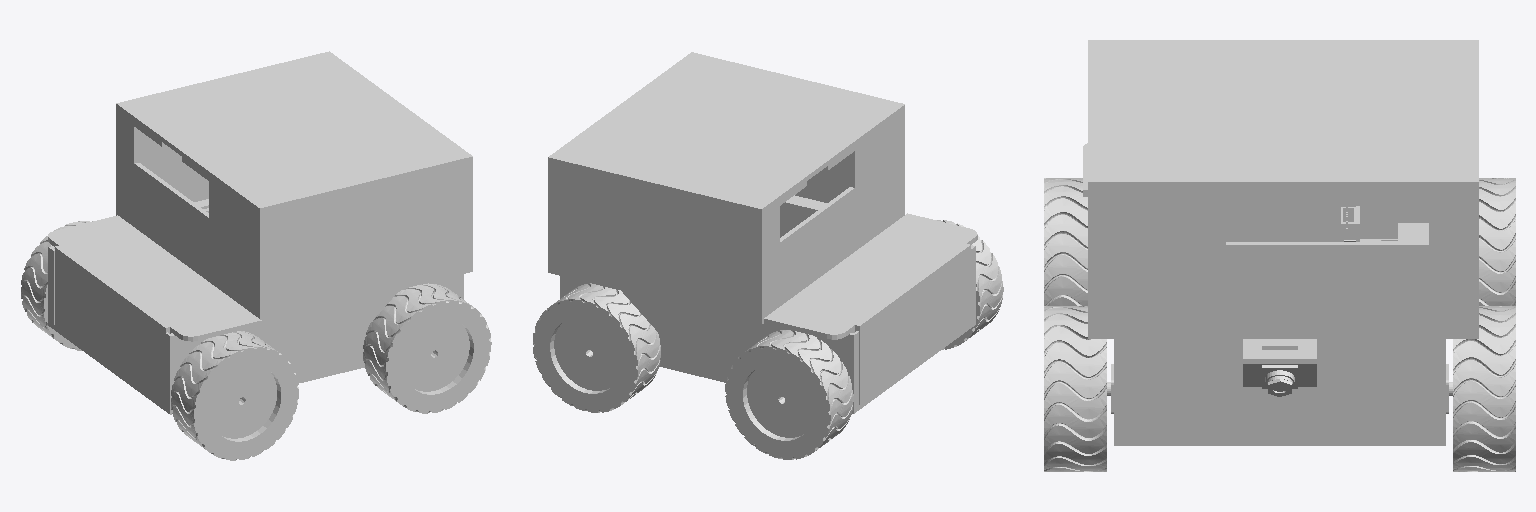
URDF robot description (linefollowingrobot):
<?xml version="1.0" encoding="utf-8"?>
<!-- This URDF was automatically created by SolidWorks to URDF Exporter! Originally created by Stephen Brawner (brawner@gmail.com)
     Commit Version: 1.6.0-4-g7f85cfe  Build Version: 1.6.7995.38578
     For more information, please see http://wiki.ros.org/sw_urdf_exporter -->
<robot
  name="linefollowingrobot">
  <link
    name="base_link">
    <inertial>
      <origin
        xyz="0.0055775 0.00018288 0.030791"
        rpy="0 0 0" />
      <mass
        value="0.12858" />
      <inertia
        ixx="0.0001856"
        ixy="1.0483E-07"
        ixz="-8.2161E-06"
        iyy="0.0001532"
        iyz="4.7258E-07"
        izz="0.00027722" />
    </inertial>
    <visual>
      <origin
        xyz="0 0 0"
        rpy="0 0 0" />
      <geometry>
        <mesh
          filename="package://linefollowingrobot/meshes/base_link.STL" />
      </geometry>
      <material
        name="">
        <color
          rgba="0.89412 0.89412 0.89412 1" />
      </material>
    </visual>
    <collision>
      <origin
        xyz="0 0 0"
        rpy="0 0 0" />
      <geometry>
        <mesh
          filename="package://linefollowingrobot/meshes/base_link.STL" />
      </geometry>
    </collision>
  </link>
  <link
    name="camera_font">
    <inertial>
      <origin
        xyz="0.0011954 4.0301E-13 -0.00071418"
        rpy="0 0 0" />
      <mass
        value="0.0002962" />
      <inertia
        ixx="3.2454E-09"
        ixy="6.4136E-24"
        ixz="-5.3673E-10"
        iyy="2.347E-09"
        iyz="4.3067E-24"
        izz="2.6677E-09" />
    </inertial>
    <visual>
      <origin
        xyz="0 0 0"
        rpy="0 0 0" />
      <geometry>
        <mesh
          filename="package://linefollowingrobot/meshes/camera_font.STL" />
      </geometry>
      <material
        name="">
        <color
          rgba="0.89412 0.89412 0.89412 1" />
      </material>
    </visual>
    <collision>
      <origin
        xyz="0 0 0"
        rpy="0 0 0" />
      <geometry>
        <mesh
          filename="package://linefollowingrobot/meshes/camera_font.STL" />
      </geometry>
    </collision>
  </link>
  <joint
    name="camerafont"
    type="fixed">
    <origin
      xyz="0.07269 0 0.023396"
      rpy="0 0 0" />
    <parent
      link="base_link" />
    <child
      link="camera_font" />
    <axis
      xyz="0 0 0" />
  </joint>
  <link
    name="wheel_left_font">
    <inertial>
      <origin
        xyz="0.000108342695310348 -4.80206985287168E-11 -0.00106172480850342"
        rpy="0 0 0" />
      <mass
        value="0.0225786132394003" />
      <inertia
        ixx="3.5425235000421E-06"
        ixy="-1.42240494826482E-13"
        ixz="3.48521214223839E-11"
        iyy="3.5425158607798E-06"
        iyz="7.38769206410904E-15"
        izz="6.21641391755422E-06" />
    </inertial>
    <visual>
      <origin
        xyz="0 0 0"
        rpy="0 0 0" />
      <geometry>
        <mesh
          filename="package://linefollowingrobot/meshes/wheel_left_font.STL" />
      </geometry>
      <material
        name="">
        <color
          rgba="0.894117647058823 0.894117647058823 0.894117647058823 1" />
      </material>
    </visual>
    <collision>
      <origin
        xyz="0 0 0"
        rpy="0 0 0" />
      <geometry>
        <mesh
          filename="package://linefollowingrobot/meshes/wheel_left_font.STL" />
      </geometry>
    </collision>
  </link>
  <joint
    name="wheelleftfont"
    type="continuous">
    <origin
      xyz="0.041782 0.0563 0.00505"
      rpy="-1.5708 0 0" />
    <parent
      link="base_link" />
    <child
      link="wheel_left_font" />
    <axis
      xyz="0 0 1" />
    <limit
      effort="10"
      velocity="10" />
    <dynamics
      damping="0.1"
      friction="0.1" />
  </joint>
  <link
    name="wheel_left_behind">
    <inertial>
      <origin
        xyz="0.00010834 -1.0965E-11 -0.0010615"
        rpy="0 0 0" />
      <mass
        value="0.022578" />
      <inertia
        ixx="3.5424E-06"
        ixy="-7.2292E-14"
        ixz="3.4816E-11"
        iyy="3.5424E-06"
        iyz="1.6831E-15"
        izz="6.2162E-06" />
    </inertial>
    <visual>
      <origin
        xyz="0 0 0"
        rpy="0 0 0" />
      <geometry>
        <mesh
          filename="package://linefollowingrobot/meshes/wheel_left_behind.STL" />
      </geometry>
      <material
        name="">
        <color
          rgba="0.89412 0.89412 0.89412 1" />
      </material>
    </visual>
    <collision>
      <origin
        xyz="0 0 0"
        rpy="0 0 0" />
      <geometry>
        <mesh
          filename="package://linefollowingrobot/meshes/wheel_left_behind.STL" />
      </geometry>
    </collision>
  </link>
  <joint
    name="wheelleftbehind"
    type="continuous">
    <origin
      xyz="-0.040218 0.0563 0.00505"
      rpy="-1.5708 0 0" />
    <parent
      link="base_link" />
    <child
      link="wheel_left_behind" />
    <axis
      xyz="0 0 1" />
    <limit
      effort="10"
      velocity="10" />
    <dynamics
      damping="0.1"
      friction="0.1" />
  </joint>
  <link
    name="wheel_right_font">
    <inertial>
      <origin
        xyz="-0.00010834 -2.5121E-11 0.0010615"
        rpy="0 0 0" />
      <mass
        value="0.022578" />
      <inertia
        ixx="3.5424E-06"
        ixy="1.2829E-13"
        ixz="3.4853E-11"
        iyy="3.5424E-06"
        iyz="-3.8722E-15"
        izz="6.2162E-06" />
    </inertial>
    <visual>
      <origin
        xyz="0 0 0"
        rpy="0 0 0" />
      <geometry>
        <mesh
          filename="package://linefollowingrobot/meshes/wheel_right_font.STL" />
      </geometry>
      <material
        name="">
        <color
          rgba="0.89412 0.89412 0.89412 1" />
      </material>
    </visual>
    <collision>
      <origin
        xyz="0 0 0"
        rpy="0 0 0" />
      <geometry>
        <mesh
          filename="package://linefollowingrobot/meshes/wheel_right_font.STL" />
      </geometry>
    </collision>
  </link>
  <joint
    name="wheelrightfont"
    type="continuous">
    <origin
      xyz="0.042099 -0.0563 0.00505"
      rpy="-1.5708 0 0" />
    <parent
      link="base_link" />
    <child
      link="wheel_right_font" />
    <axis
      xyz="0 0 -1" />
    <limit
      effort="10"
      velocity="10" />
    <dynamics
      damping="0.1"
      friction="0.1" />
  </joint>
  <link
    name="wheel_right_behind">
    <inertial>
      <origin
        xyz="-0.00010834 1.2352E-10 0.0010714"
        rpy="0 0 0" />
      <mass
        value="0.022579" />
      <inertia
        ixx="3.5425E-06"
        ixy="6.8585E-14"
        ixz="3.4833E-11"
        iyy="3.5425E-06"
        iyz="-1.8891E-14"
        izz="6.2164E-06" />
    </inertial>
    <visual>
      <origin
        xyz="0 0 0"
        rpy="0 0 0" />
      <geometry>
        <mesh
          filename="package://linefollowingrobot/meshes/wheel_right_behind.STL" />
      </geometry>
      <material
        name="">
        <color
          rgba="0.89412 0.89412 0.89412 1" />
      </material>
    </visual>
    <collision>
      <origin
        xyz="0 0 0"
        rpy="0 0 0" />
      <geometry>
        <mesh
          filename="package://linefollowingrobot/meshes/wheel_right_behind.STL" />
      </geometry>
    </collision>
  </link>
  <joint
    name="wheelrightbehind"
    type="continuous">
    <origin
      xyz="-0.039901 -0.0563 0.00505"
      rpy="-1.5708 0 0" />
    <parent
      link="base_link" />
    <child
      link="wheel_right_behind" />
    <axis
      xyz="0 0 -1" />
    <limit
      effort="10"
      velocity="10" />
    <dynamics
      damping="0.1"
      friction="0.1" />
  </joint>
</robot>

--- What the picture shows (computed from the rendered views, not written in the file) ---
Views: 3 orthographic renders of the robot side by side, from view 1: azimuth 30°, elevation 25°; view 2: azimuth 150°, elevation 25°; view 3: azimuth 270°, elevation 25°.
Robot: linefollowingrobot — 6 links, 5 joints (4 continuous, 1 fixed); root link base_link; default pose: all joints at 0.
Visible links, largest first — view 1: base_link, wheel_right_behind, wheel_right_font, wheel_left_behind; view 2: base_link, wheel_left_behind, wheel_left_font, wheel_right_behind; view 3: base_link, wheel_right_font, wheel_left_font, wheel_right_behind, wheel_left_behind, camera_font.
Link boxes in pixels (x1,y1,x2,y2): base_link: [48, 51, 472, 414]; wheel_right_behind: [171, 331, 298, 460]; wheel_right_font: [363, 283, 491, 413]; wheel_left_behind: [21, 221, 92, 350]; base_link: [548, 52, 977, 413]; wheel_left_behind: [725, 330, 853, 459]; wheel_left_font: [533, 283, 660, 412]; wheel_right_behind: [937, 220, 1003, 349]; base_link: [1083, 40, 1478, 445]; wheel_right_font: [1044, 306, 1106, 471]; wheel_left_font: [1453, 306, 1515, 471]; wheel_right_behind: [1044, 178, 1087, 305]; wheel_left_behind: [1479, 178, 1515, 305]; camera_font: [1262, 365, 1297, 396].
Size in the robot's own frame: 0.1411 by 0.1276 by 0.0944 metres.
Meshes: 6 distinct files referenced, 6 mesh visuals loaded (6 binary STL).
